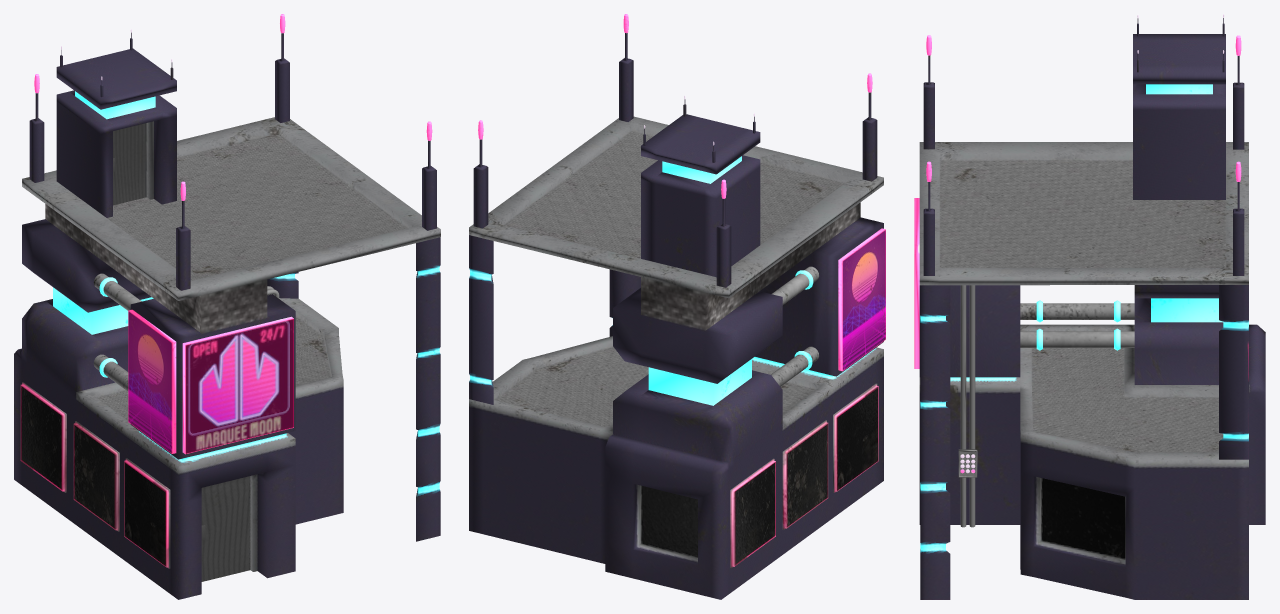
Rendered from building3.glb.
The picture shows the model from 3 angles, left to right: view 1: azimuth 30°, elevation 25°; view 2: azimuth 150°, elevation 25°; view 3: azimuth 270°, elevation 25°; orthographic projection. The views are drawn at different scales.
Visible parts, largest first — view 1: cyberpunk_house; view 2: cyberpunk_house; view 3: cyberpunk_house.
Part boxes in pixels (bbox=[...]): cyberpunk_house: bbox=[14, 14, 440, 599]; cyberpunk_house: bbox=[469, 14, 885, 599]; cyberpunk_house: bbox=[914, 14, 1265, 599].
Bounding box in the file's own units: 1.27 × 2 × 1.37.
1 material, 1 textured.
